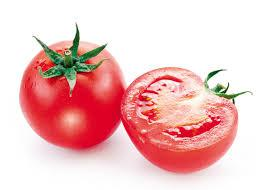tomato: (19, 39, 126, 150)
